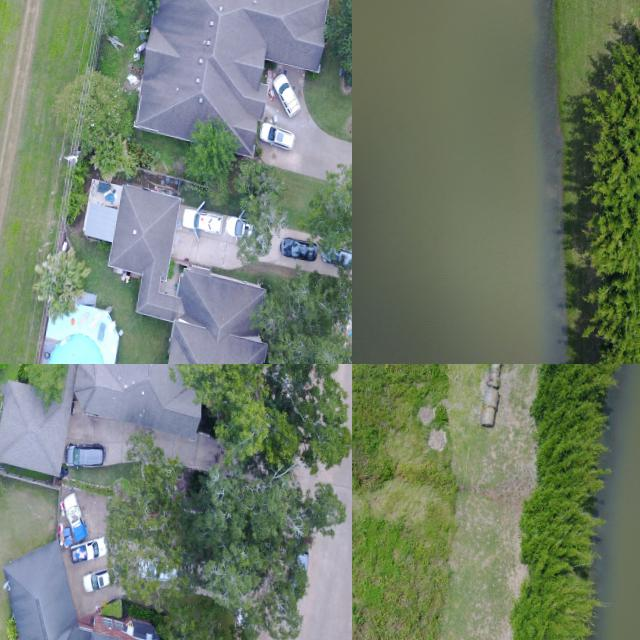fire: (352, 0, 566, 364)
